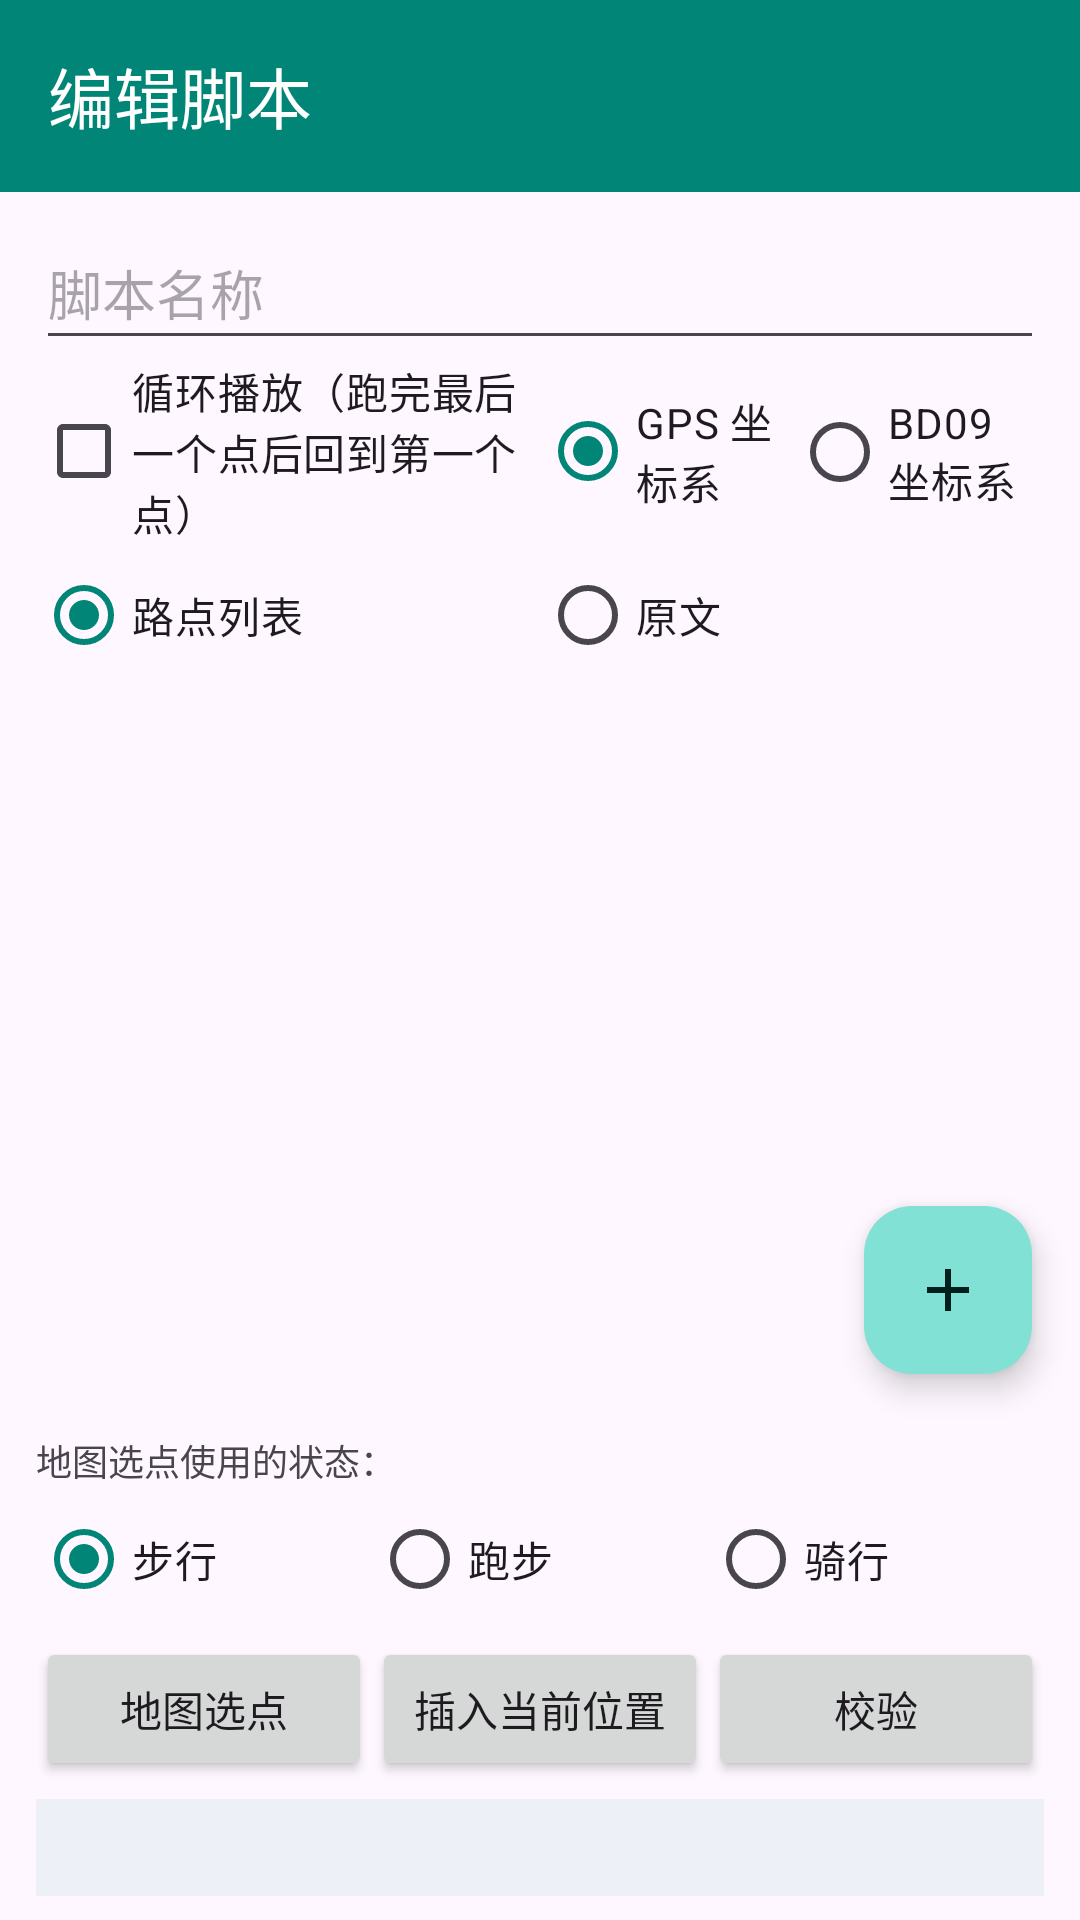

Named icons in this screenshot (1080w x 1920h) and their centers, (x,y):
添加路点: (948,1290)
